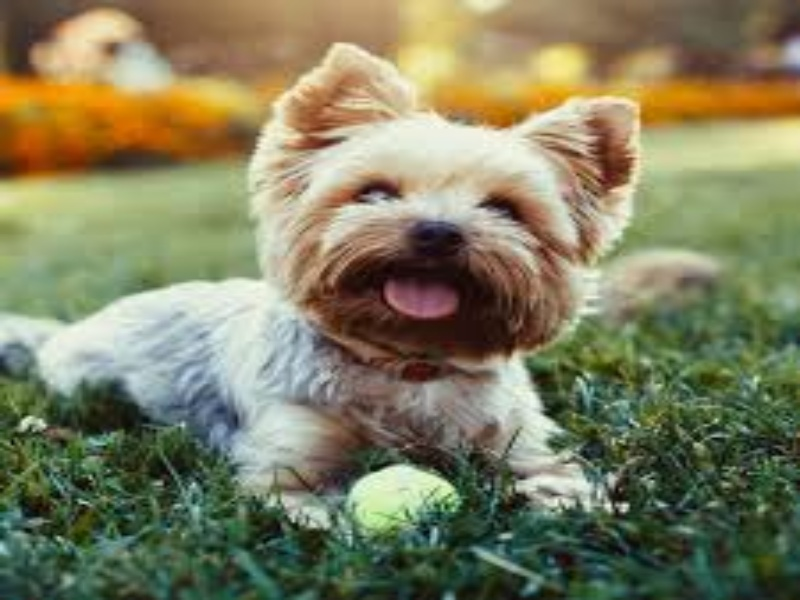dog: (243, 32, 641, 538)
